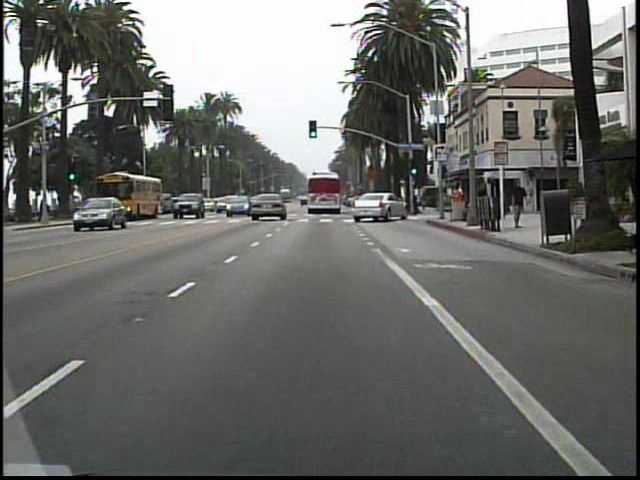person: (505, 177, 527, 233), (476, 181, 493, 225), (450, 180, 466, 222)
